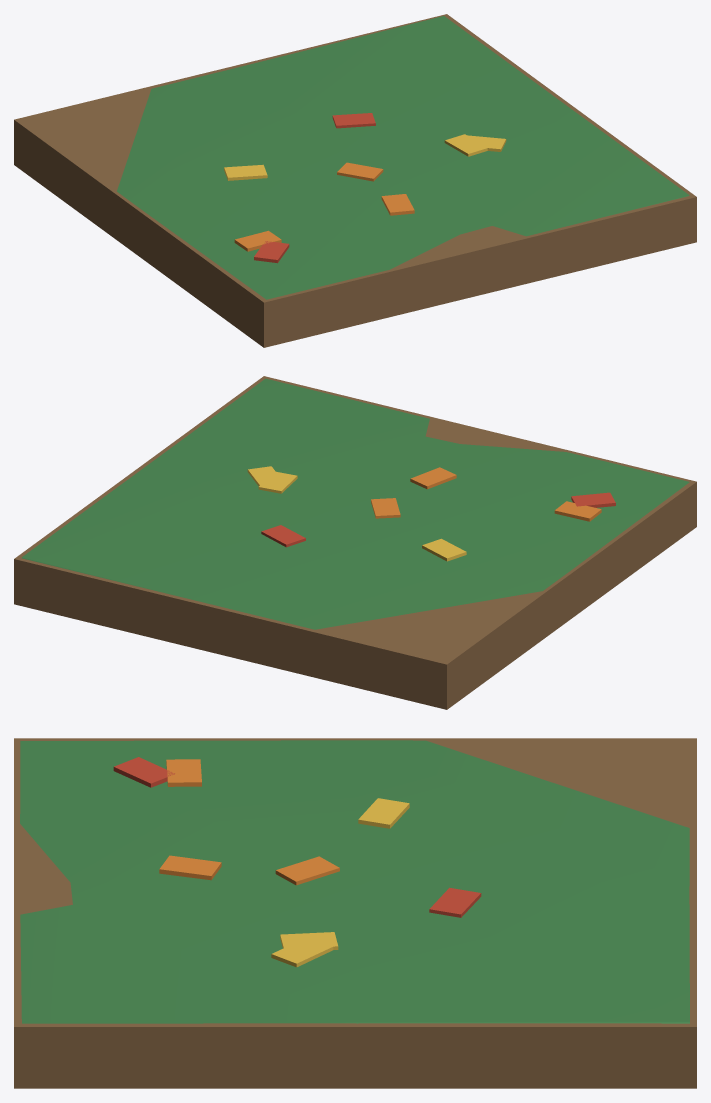
File: stage1_floor_06.glb
3 renders of one model, top to bottom at view 1: azimuth 30°, elevation 25°; view 2: azimuth 150°, elevation 25°; view 3: azimuth 270°, elevation 25°, orthographic. The views are drawn at different scales.
Visible parts, largest first — view 1: stage1_floor_06_grass2, stage1_floor_06_dirt, stage1_floor_06_leafOrange, stage1_floor_06_leafYellow, stage1_floor_06_leafRed; view 2: stage1_floor_06_grass2, stage1_floor_06_dirt, stage1_floor_06_leafOrange, stage1_floor_06_leafYellow, stage1_floor_06_leafRed; view 3: stage1_floor_06_grass2, stage1_floor_06_dirt, stage1_floor_06_leafOrange, stage1_floor_06_leafYellow, stage1_floor_06_leafRed.
Part boxes in pixels (box(x1,y1,x2,y2)): stage1_floor_06_grass2: box(117, 16, 689, 299); stage1_floor_06_dirt: box(14, 14, 696, 347); stage1_floor_06_leafOrange: box(234, 162, 414, 251); stage1_floor_06_leafYellow: box(224, 134, 506, 180); stage1_floor_06_leafRed: box(254, 113, 375, 263); stage1_floor_06_grass2: box(22, 378, 689, 629); stage1_floor_06_dirt: box(14, 376, 696, 709); stage1_floor_06_leafOrange: box(371, 467, 601, 521); stage1_floor_06_leafYellow: box(247, 466, 466, 561); stage1_floor_06_leafRed: box(261, 492, 615, 547); stage1_floor_06_grass2: box(20, 740, 689, 1023); stage1_floor_06_dirt: box(14, 738, 696, 1088); stage1_floor_06_leafOrange: box(159, 759, 339, 885); stage1_floor_06_leafYellow: box(271, 798, 409, 967); stage1_floor_06_leafRed: box(113, 757, 481, 917).
Bounding box in the file's own units: 1 × 0.108 × 1.
